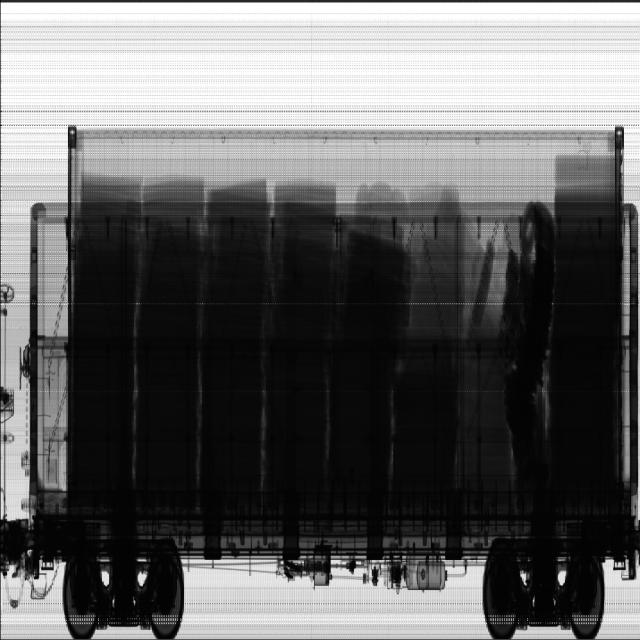fabrics: (70, 174, 462, 500)
